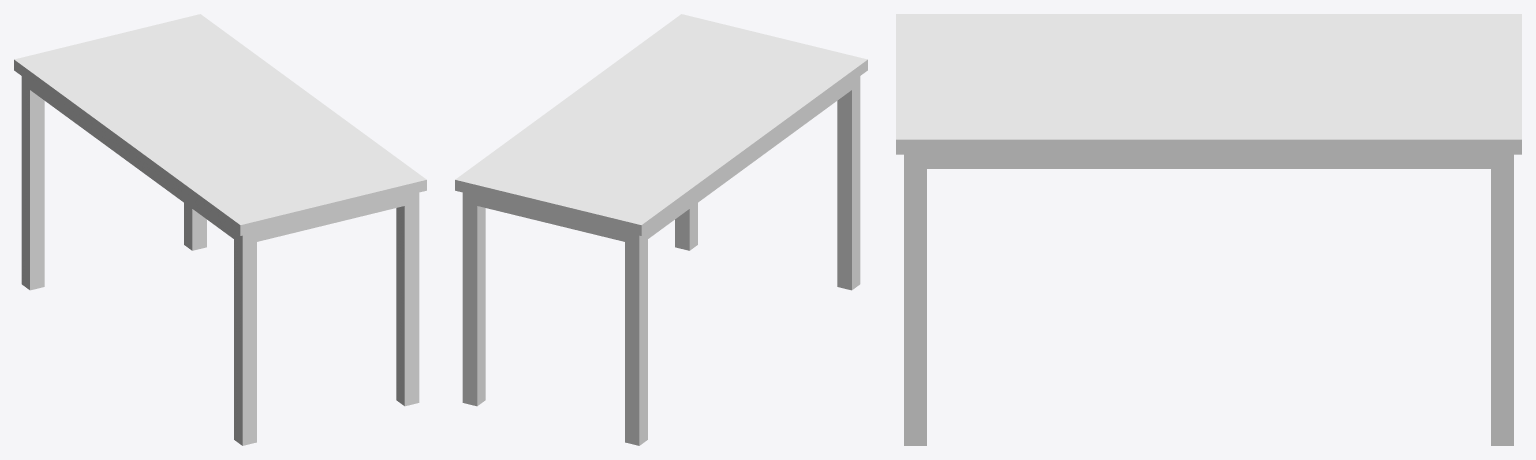
The model's file is table2.glb.
3 renders of one model, left to right at view 1: azimuth 30°, elevation 25°; view 2: azimuth 150°, elevation 25°; view 3: azimuth 270°, elevation 25°, orthographic. The views are drawn at different scales.
Parts seen in each view (by area): view 1: table_base_20; view 2: table_base_20; view 3: table_base_20.
Boxes of the visible parts, left/top/right/bottom form: table_base_20: left=14, top=14, right=426, bottom=445; table_base_20: left=455, top=14, right=867, bottom=445; table_base_20: left=896, top=14, right=1521, bottom=445.
Bounding box in the file's own units: 3.85 × 4.41 × 8.09.
1 material, 1 textured.
